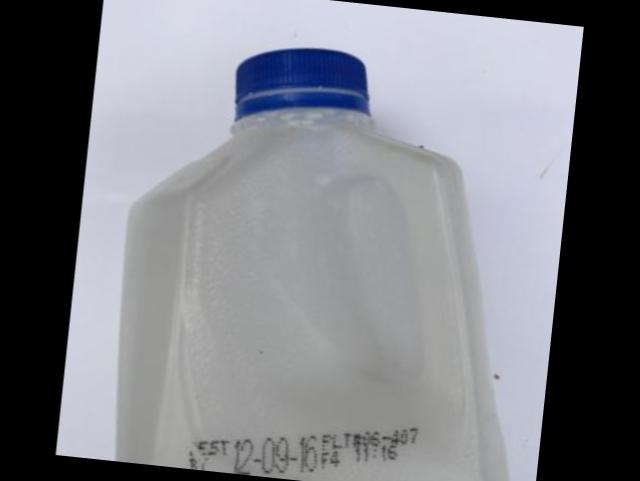plastic: (120, 45, 510, 481)
